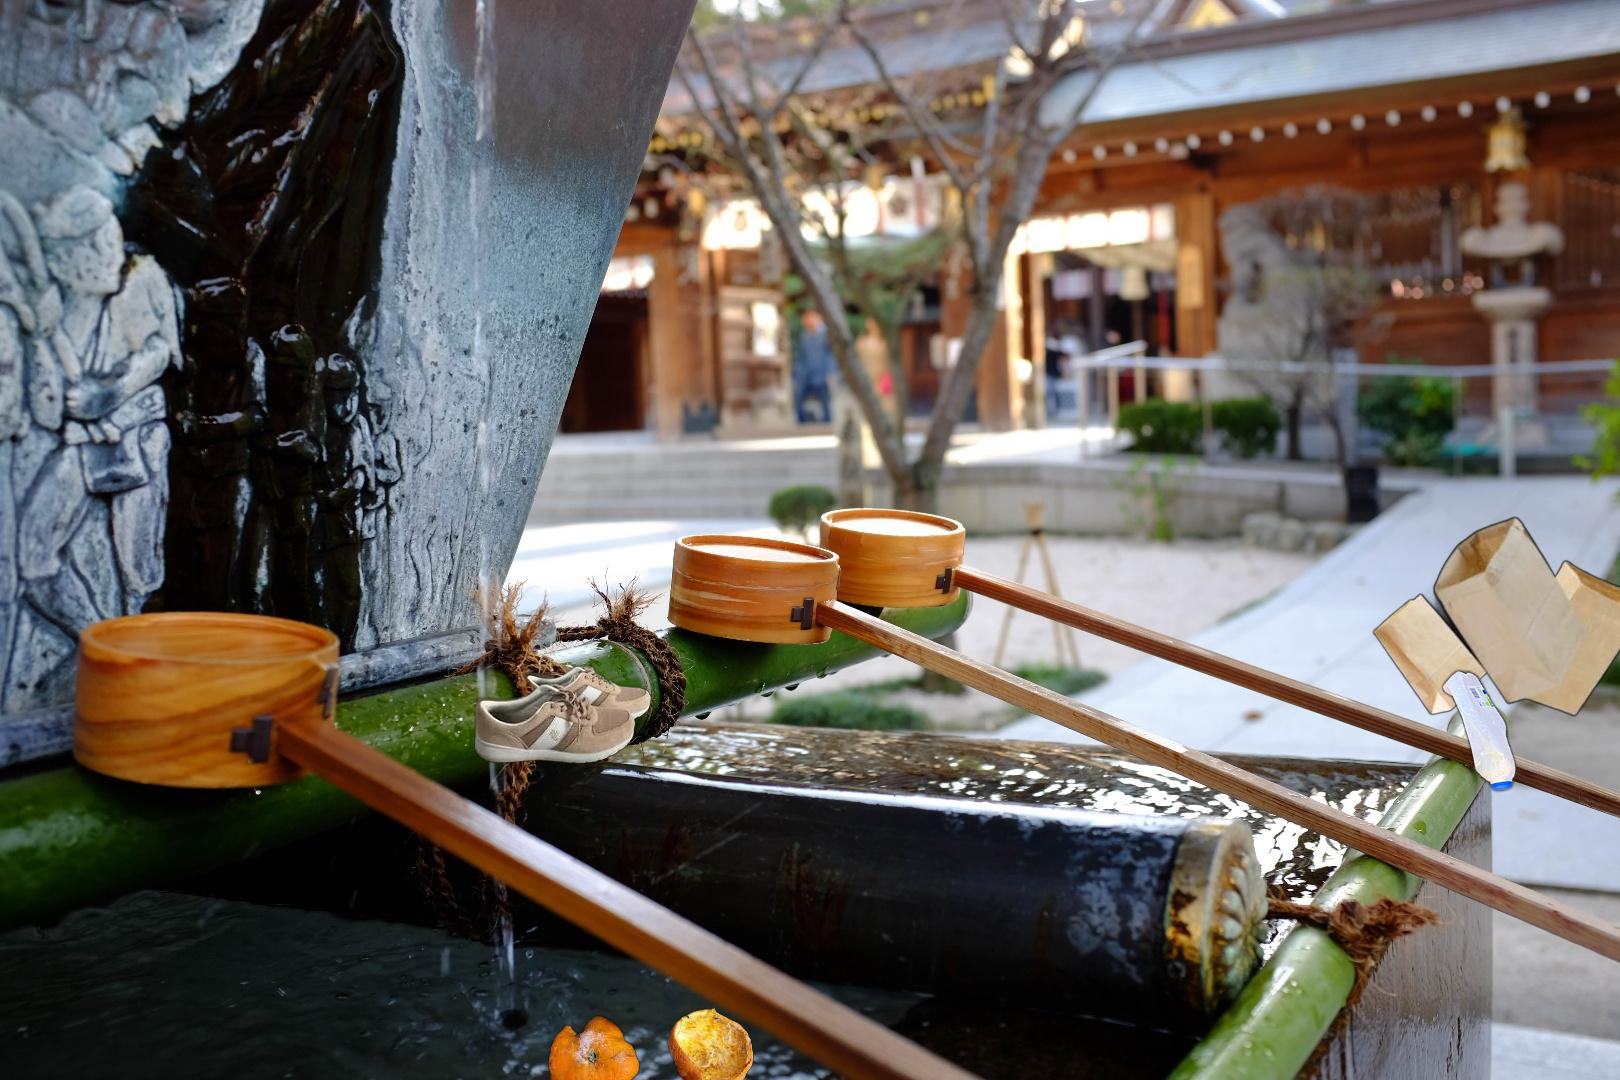biological: (545, 1005, 756, 1080)
paper-bag: (1370, 513, 1620, 718)
plastic-bottles: (1176, 664, 1521, 976)
shoes: (466, 661, 655, 765)
